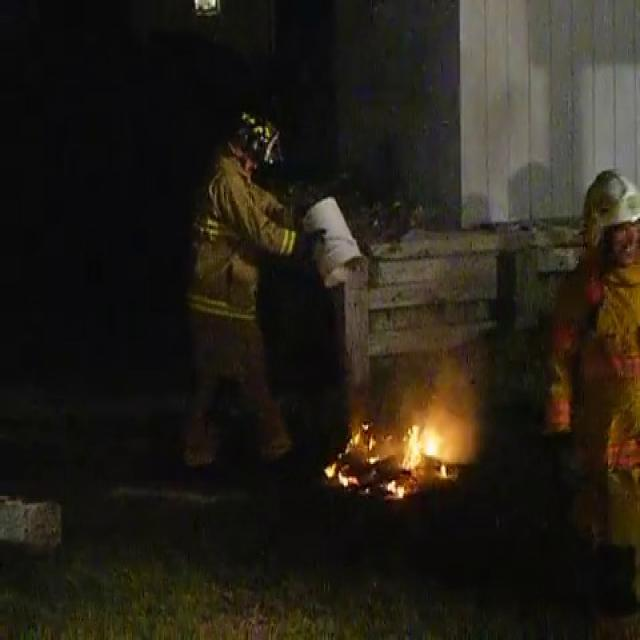Fire: (397, 404, 455, 484)
